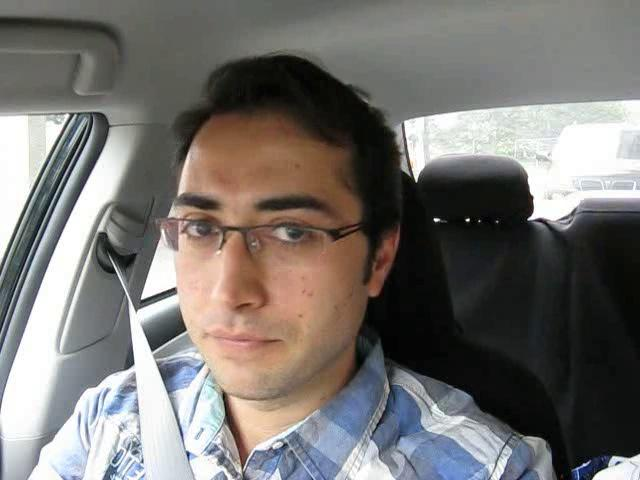no_yawn: (191, 316, 301, 366)
open_eyeL: (161, 209, 223, 255)
open_eyeR: (251, 212, 324, 261)
